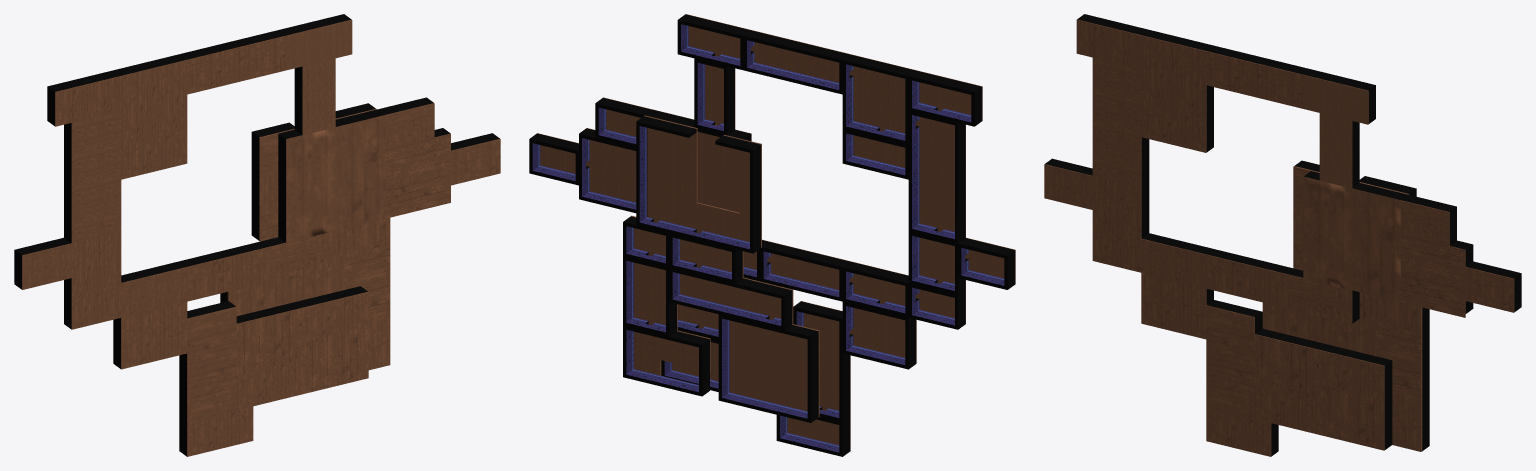
Rendered from demo_level.fbx.
3 views of the same model, side by side, from view 1: azimuth 30°, elevation 25°; view 2: azimuth 150°, elevation 25°; view 3: azimuth 330°, elevation 25° (orthographic).
Parts seen in each view (by area): view 1: FLOOR_03, FLOOR_06_a2, FLOOR_06_b1, FLOOR_06_a3, FLOOR_03_a, FLOOR_06_a4, FLOOR_06_b3, FLOOR_06_b, FLOOR_06_b5, FLOOR_07_a1, FLOOR_05, FLOOR_06_a1 (+31 smaller); view 2: FLOOR_07, FLOOR_7_a2, WALL_07, FLOOR_06_a2, WALL_07_a2, WALL_06_a2, FLOOR_06_a3, WALL_07_a1, WALL_06_a4, FLOOR_03_a, FLOOR_03, WALL_07_b2 (+43 smaller); view 3: FLOOR_03, FLOOR_06_a2, FLOOR_06_b1, FLOOR_06_a3, FLOOR_03_a, FLOOR_06_a4, FLOOR_06_b3, FLOOR_06_b5, FLOOR_06_b, FLOOR_07_a1, FLOOR_05, FLOOR_07_b1 (+32 smaller).
Boxes of the visible parts, x1,y1,x2,y2 form: FLOOR_03: (286, 115, 385, 242); FLOOR_06_a2: (71, 111, 121, 243); FLOOR_06_b1: (187, 306, 236, 422); FLOOR_06_a3: (121, 60, 187, 144); FLOOR_03_a: (385, 133, 450, 218); FLOOR_06_a4: (187, 35, 286, 94); FLOOR_06_b3: (236, 308, 302, 375); FLOOR_06_b: (121, 302, 187, 369); FLOOR_06_b5: (302, 326, 368, 393); FLOOR_07_a1: (227, 255, 344, 315); FLOOR_05: (187, 247, 269, 301); FLOOR_06_a1: (71, 231, 121, 295); FLOOR_07: (644, 115, 761, 247); FLOOR_7_a2: (729, 319, 819, 416); WALL_07: (636, 116, 760, 253); FLOOR_06_a2: (916, 110, 965, 237); WALL_07_a2: (718, 314, 818, 422); WALL_06_a2: (908, 111, 965, 243); FLOOR_06_a3: (850, 54, 916, 133); WALL_07_a1: (669, 268, 792, 330); WALL_06_a4: (743, 30, 849, 94); FLOOR_03_a: (586, 128, 636, 202); FLOOR_03: (652, 109, 751, 212); WALL_07_b2: (623, 325, 709, 396); FLOOR_03: (1303, 176, 1400, 301); FLOOR_06_a2: (1092, 57, 1141, 187); FLOOR_06_b1: (1206, 305, 1254, 418); FLOOR_06_a3: (1141, 35, 1206, 118); FLOOR_03_a: (1400, 234, 1465, 317); FLOOR_06_a4: (1206, 51, 1303, 108); FLOOR_06_b3: (1254, 334, 1319, 400); FLOOR_06_b5: (1319, 384, 1384, 450); FLOOR_06_b: (1141, 273, 1206, 339); FLOOR_07_a1: (1262, 302, 1375, 356); FLOOR_05: (1206, 254, 1287, 308); FLOOR_07_b1: (1376, 322, 1422, 401).
Size of the model in its own units: 29000 by 23000 by 1740.
